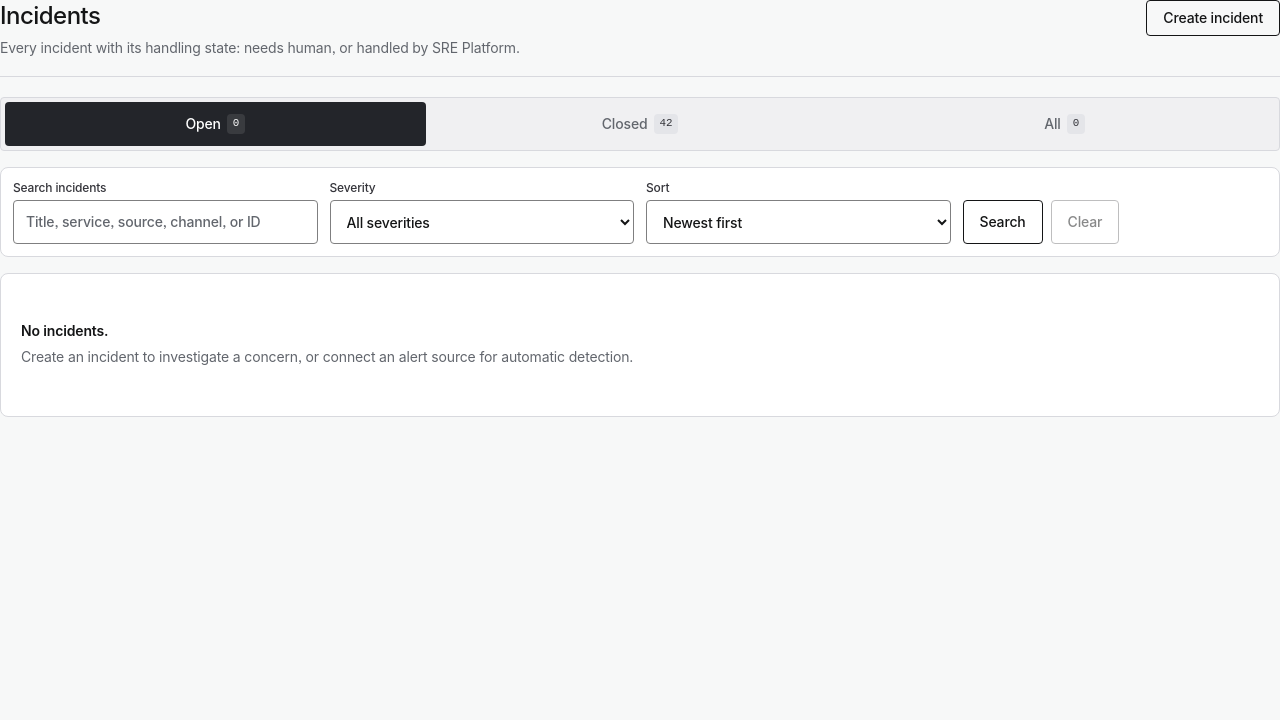
Test: IncidentsPanel mixed-page delta announces the rendered closed count › the delta counts only the rendered closed rows, not the raw fetched page
Click the tab "Closed 42". click: (640,124)
box: x1=430 y1=102 x2=850 y2=146
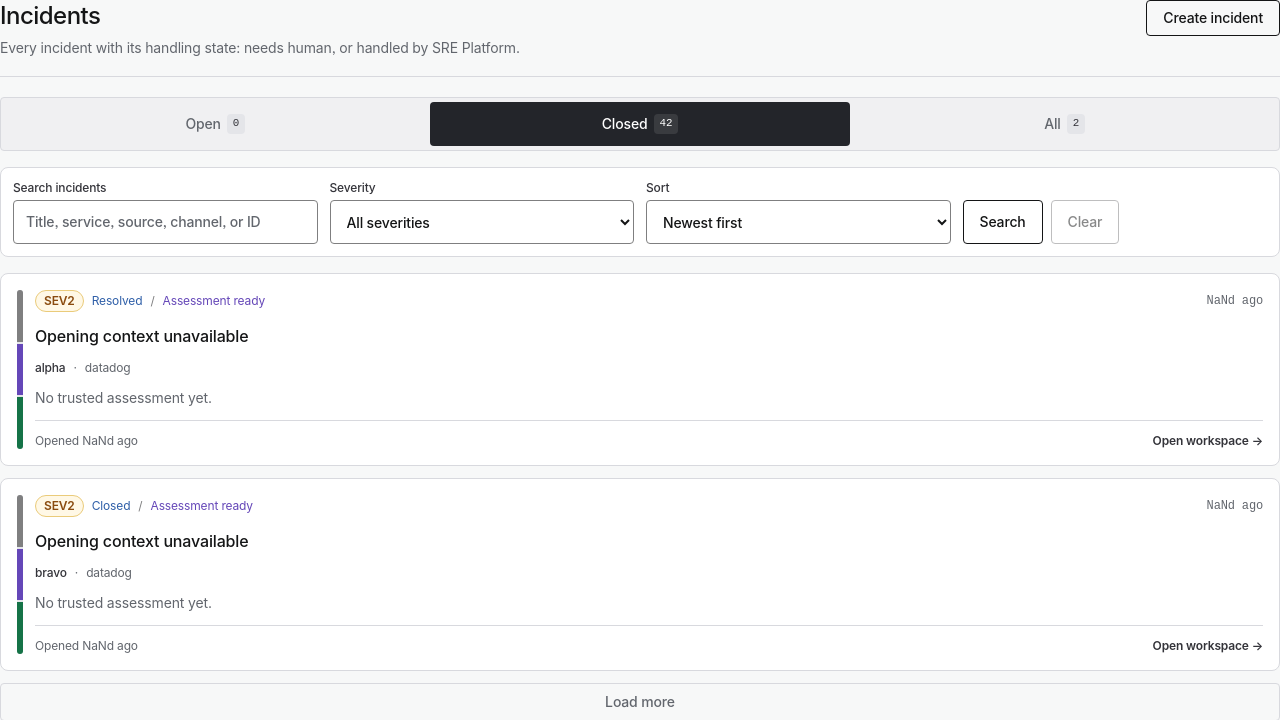
Click the button "Load more". click: (640,702)
box: x1=0 y1=683 x2=1279 y2=719
(page scrolled)
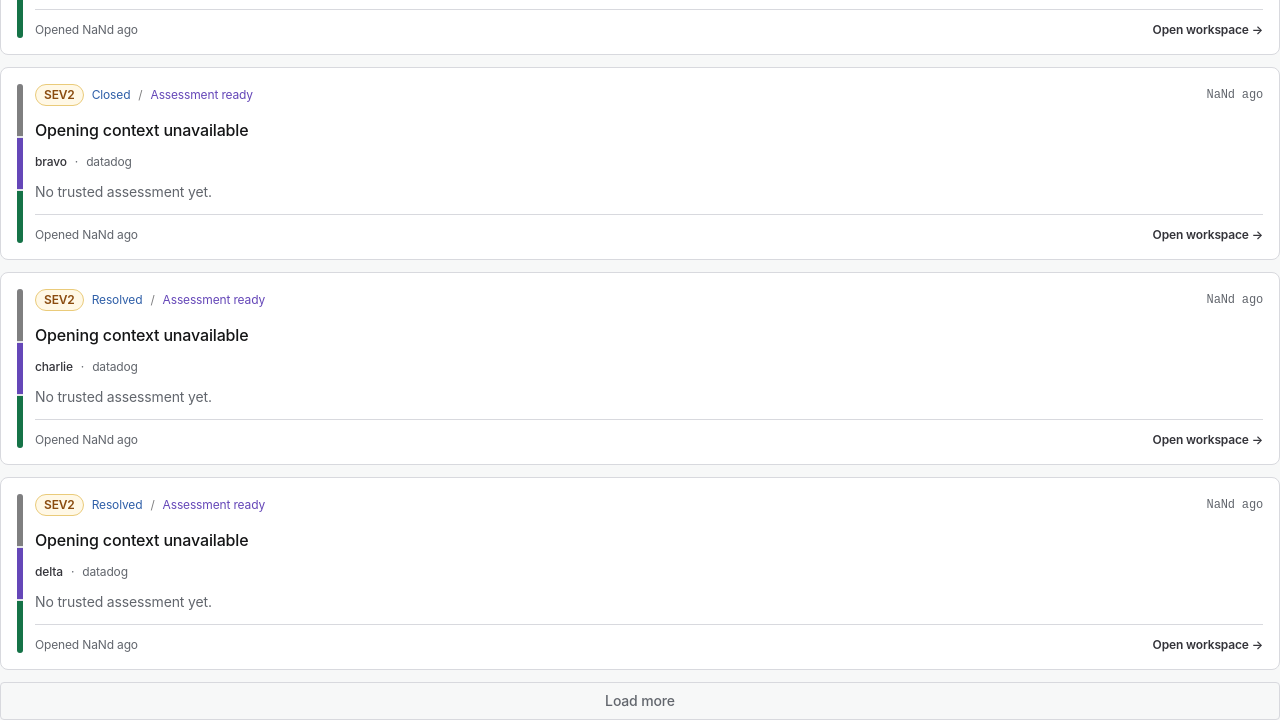
Check: the text "charlie" is shown, box x1=35 y1=359 x2=73 y2=375
Check: the text "delta" is shown, box x1=35 y1=564 x2=63 y2=580
